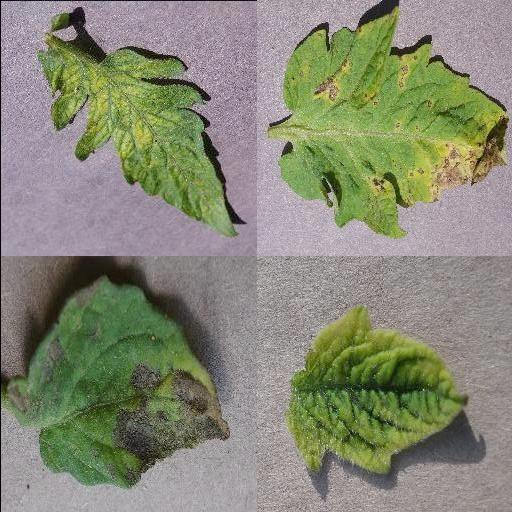Early Blight: (0, 279, 232, 490)
Mosaic Virus: (34, 35, 240, 239)
Septoria: (279, 10, 509, 238)
Yellow Leaf Curl Virus: (284, 310, 468, 477)
